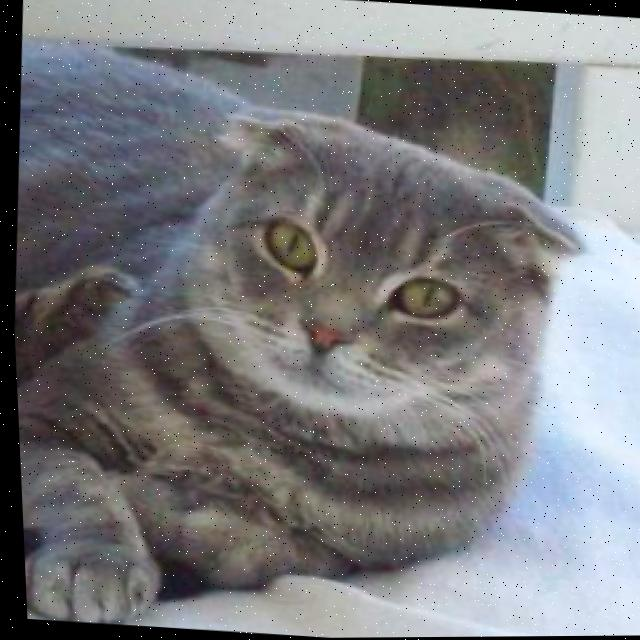Scottish Fold: (1, 25, 619, 640)
